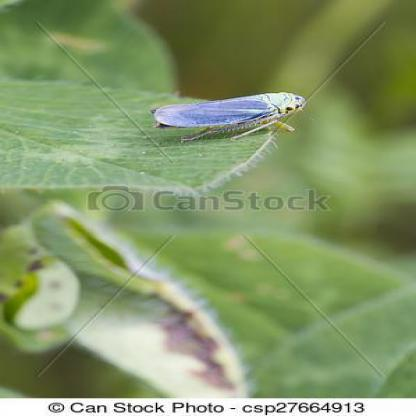Green-Leafhopper: (148, 83, 306, 149)
